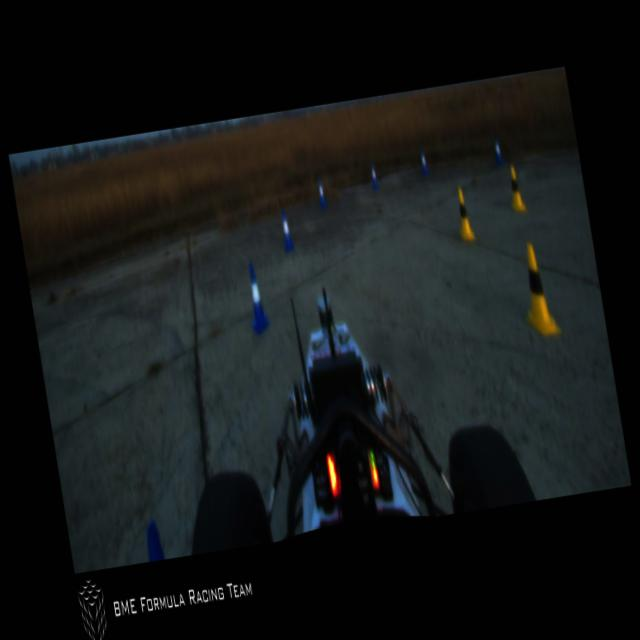blue_cone: (242, 260, 272, 336), (278, 209, 294, 252), (316, 178, 328, 210), (492, 136, 503, 164), (419, 150, 429, 177), (370, 163, 379, 190)
yellow_cone: (513, 238, 563, 340), (452, 184, 477, 243), (506, 163, 527, 214)
